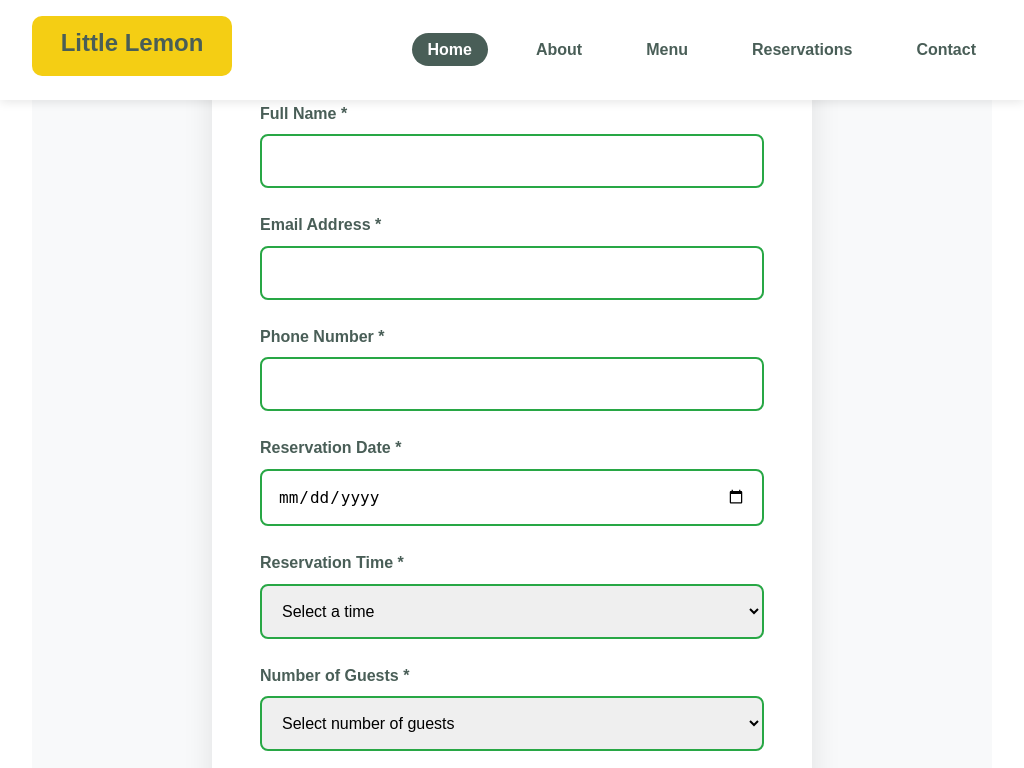
Test: Booking Form Functionality › validates phone number format
(page scrolled)
Type "abc123" into the field labelled "Phone Number *" at (512, 384), box [260, 357, 764, 411]
(page scrolled)
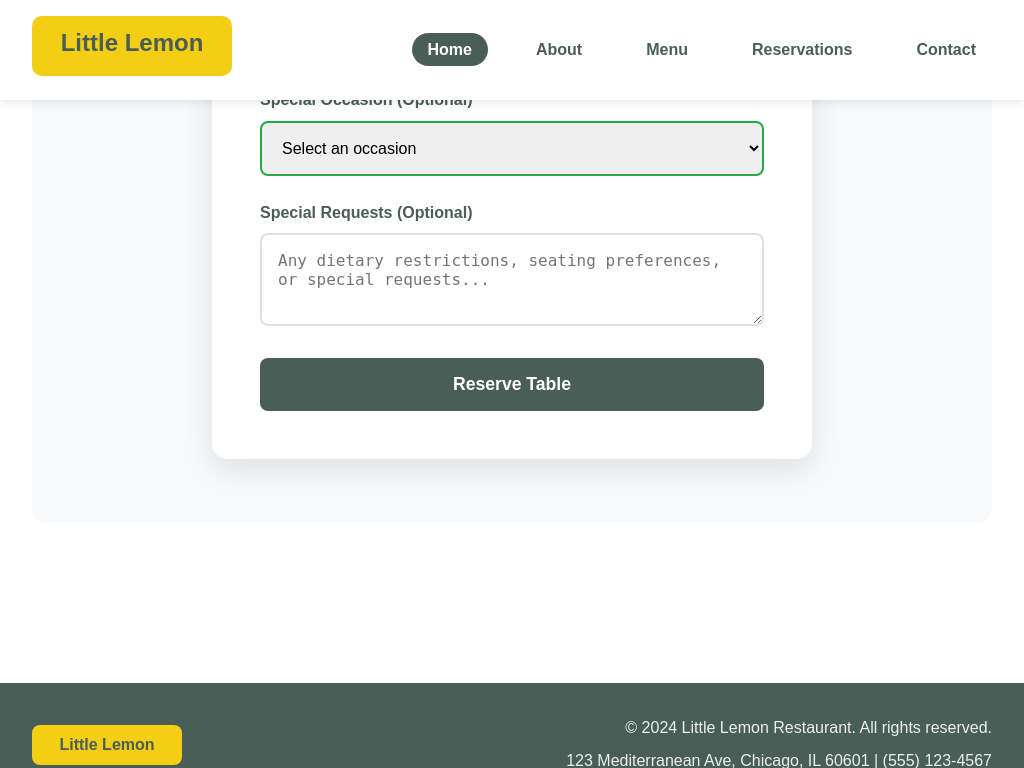
Click the button "Reserve Table" at (512, 384), box [260, 358, 764, 411]
(page scrolled)
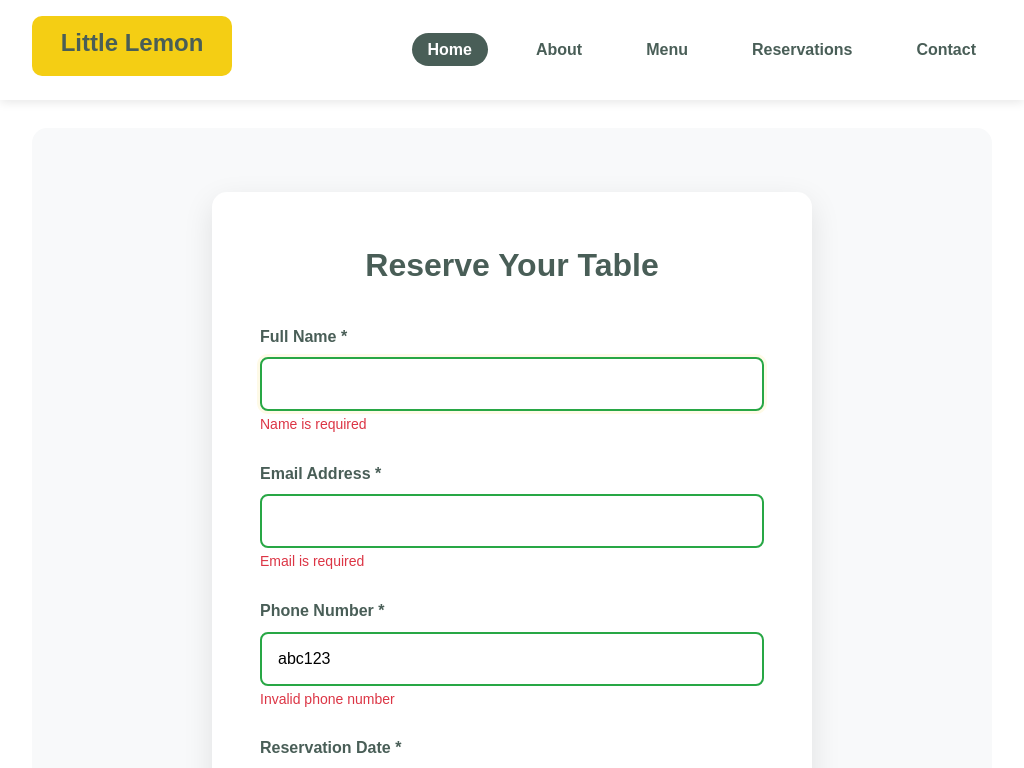
Check: the text "Invalid phone number" is shown, box [260, 690, 395, 706]
